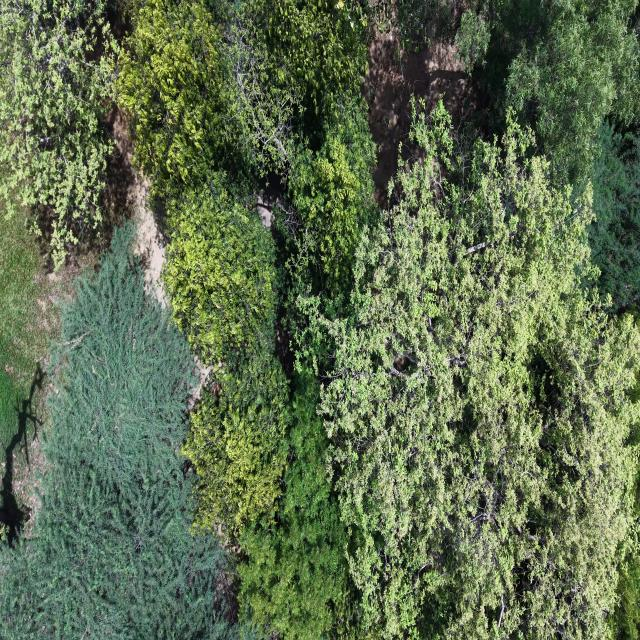DRY_AREA: (363, 31, 475, 207), (363, 33, 475, 206), (109, 108, 167, 306), (108, 108, 166, 305)
VEGETATION_TREE: (0, 0, 639, 639), (306, 103, 639, 638), (158, 3, 375, 638), (119, 3, 374, 535), (0, 226, 234, 638), (164, 101, 374, 535), (456, 2, 639, 309), (118, 0, 366, 197), (457, 0, 639, 181), (0, 0, 118, 266), (239, 375, 357, 639), (0, 207, 93, 539), (229, 0, 367, 173), (118, 0, 234, 199), (163, 176, 277, 364), (184, 345, 289, 535), (279, 97, 375, 294), (238, 0, 366, 116), (0, 213, 46, 448), (589, 123, 639, 309), (368, 0, 466, 56), (612, 470, 639, 639), (455, 11, 490, 73), (0, 366, 21, 443)
